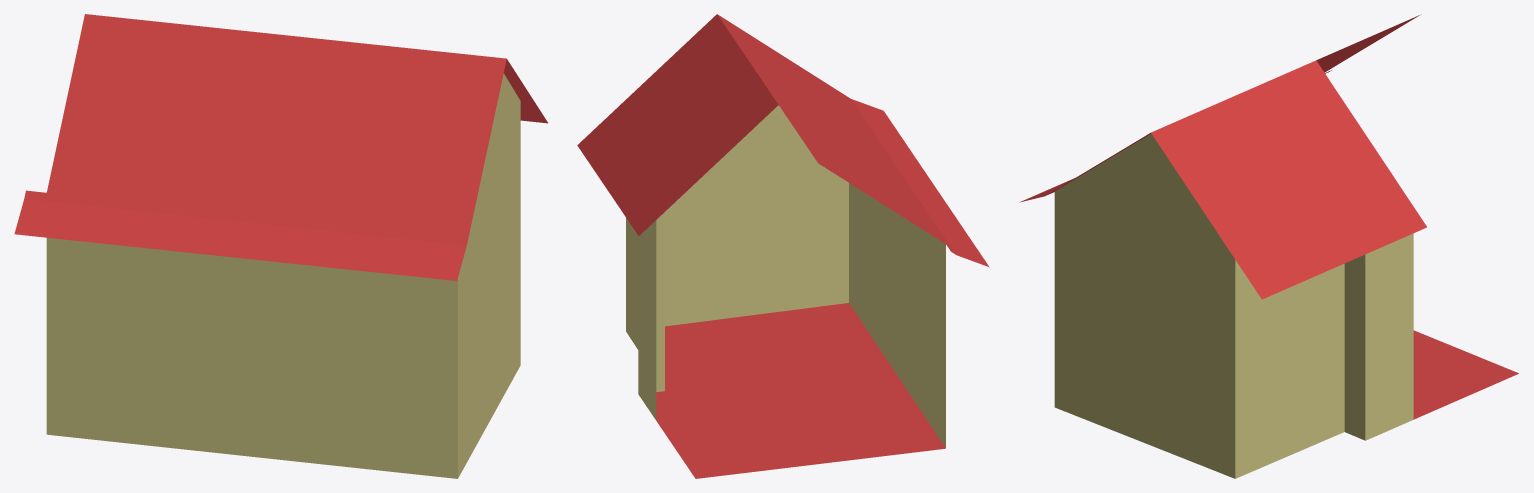
The picture shows the model from 3 angles, left to right: view 1: azimuth 30°, elevation 25°; view 2: azimuth 150°, elevation 25°; view 3: azimuth 270°, elevation 25°; orthographic projection. The views are drawn at different scales.
Bounding box in the file's own units: 20.68 × 19.55 × 13.77.
